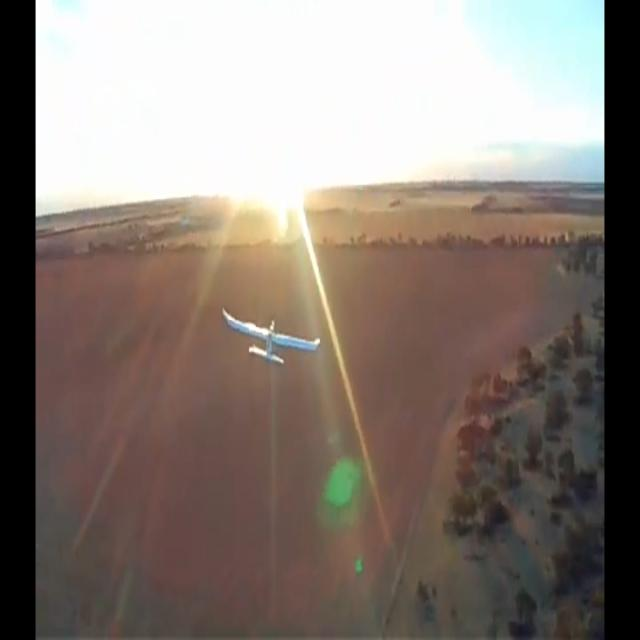iha: (253, 304, 289, 366)
